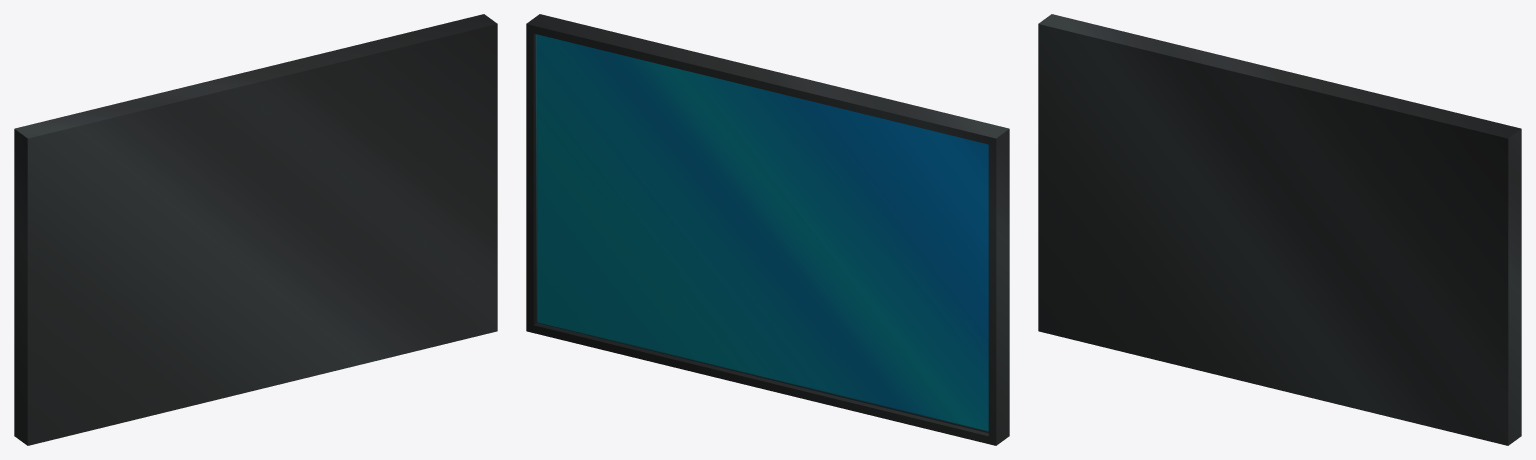
File: Télévision.FBX
3 views of the same model, side by side, from view 1: azimuth 30°, elevation 25°; view 2: azimuth 150°, elevation 25°; view 3: azimuth 330°, elevation 25° (orthographic).
Visible parts, largest first — view 1: Télévision; view 2: Télévision; view 3: Télévision.
Part boxes in pixels (x1,y1,x2,y2): Télévision: (14,14,497,445); Télévision: (526,14,1009,445); Télévision: (1038,14,1521,445).
Bounding box in the file's own units: 1.2 × 0.75 × 0.06.
